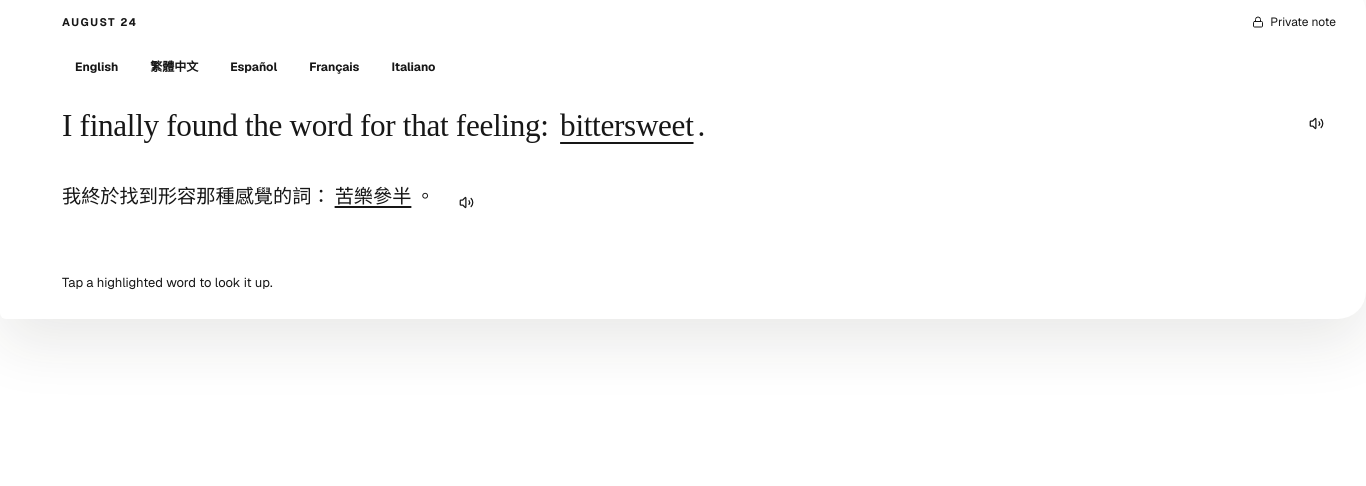
it: Keep: a bilingual note › opens the word for the feeling in either line, with its reading, meaning and sound
Click the button "苦樂參半": x=373, y=197 x1=331 y1=183 x2=415 y2=212
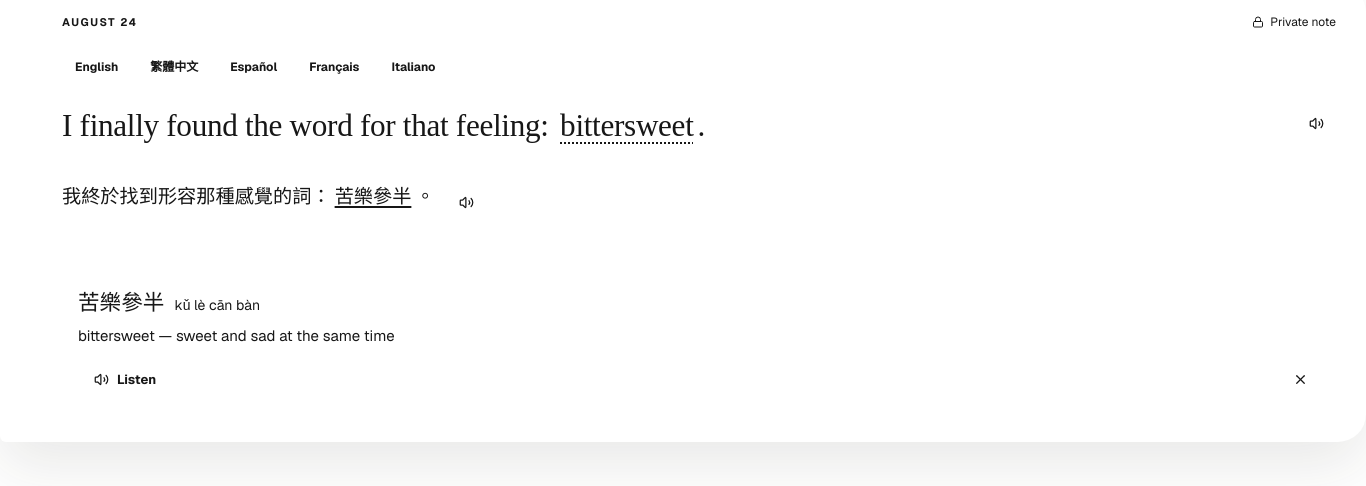
Check: the text "bittersweet — sweet and sad at the same time" is shown, box x1=78 y1=326 x2=395 y2=345
Check: the text "kǔ lè cān bàn" is shown, box x1=174 y1=295 x2=260 y2=316
Click the button "Listen": x=125, y=380 x1=78 y1=358 x2=172 y2=402
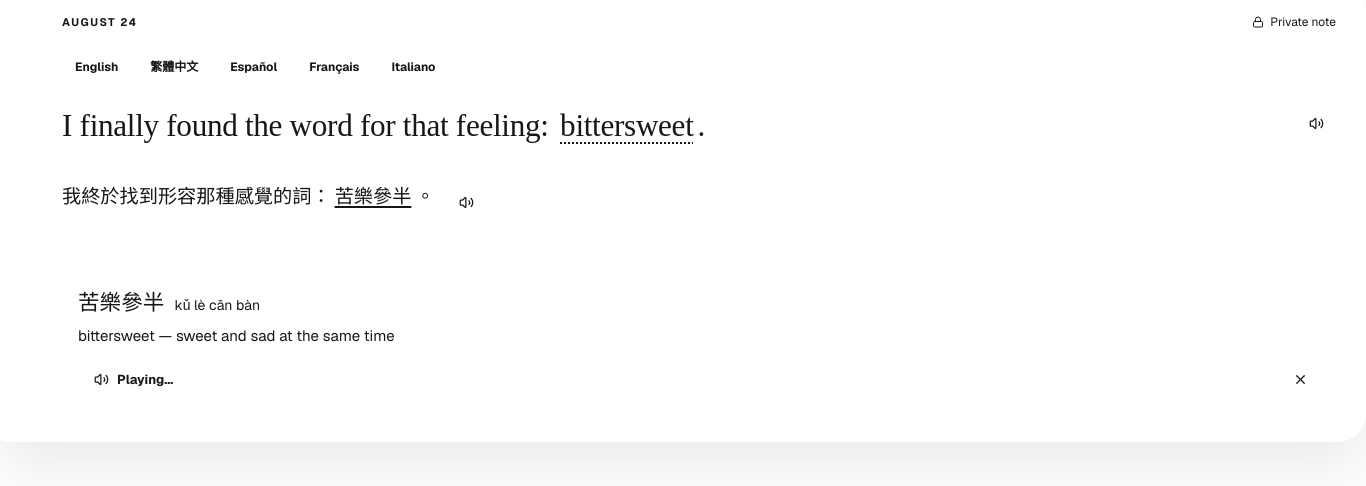
Check: the button "苦樂參半" is shown, box x1=331 y1=183 x2=415 y2=212
Click the button "bittersweet": x=627, y=126 x1=556 y1=103 x2=698 y2=150
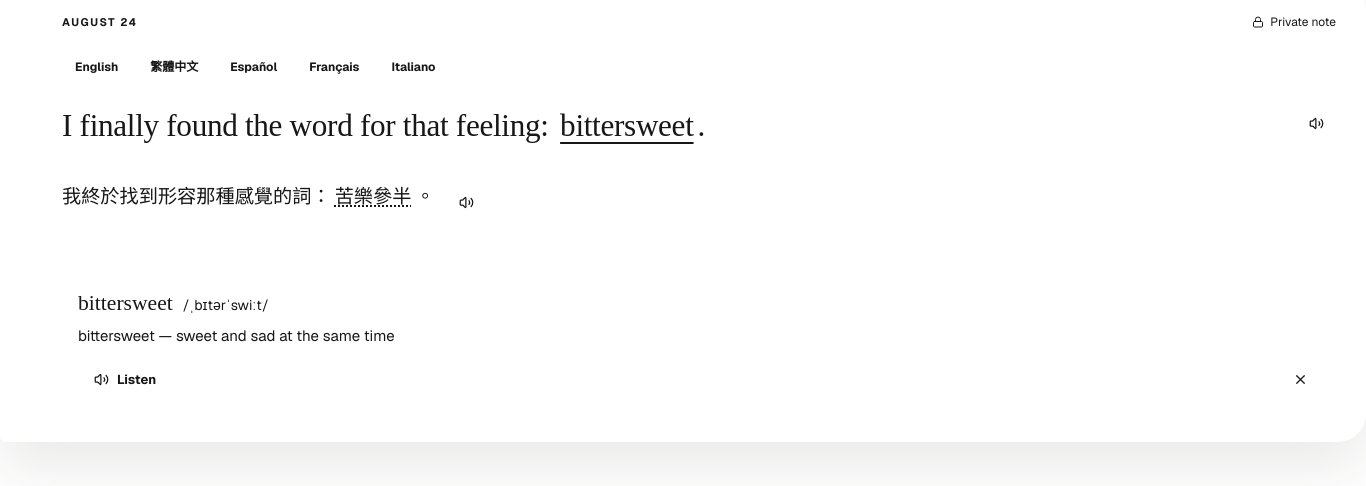
Check: the text "/ˌbɪtərˈswiːt/" is shown, box x1=183 y1=295 x2=269 y2=316
Check: the button "苦樂參半" is collapsed, box x1=331 y1=183 x2=415 y2=212
Click the button named "Close": x=1300, y=380 x1=1280 y1=360 x2=1320 y2=400
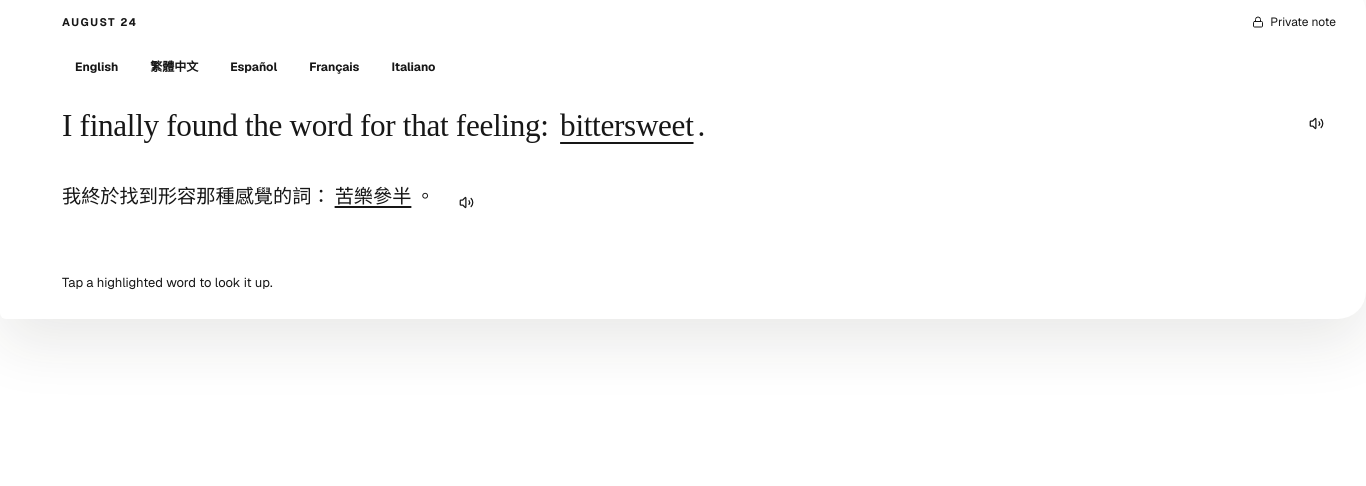
Check: the text "bittersweet — sweet and sad at the same time" is gone
